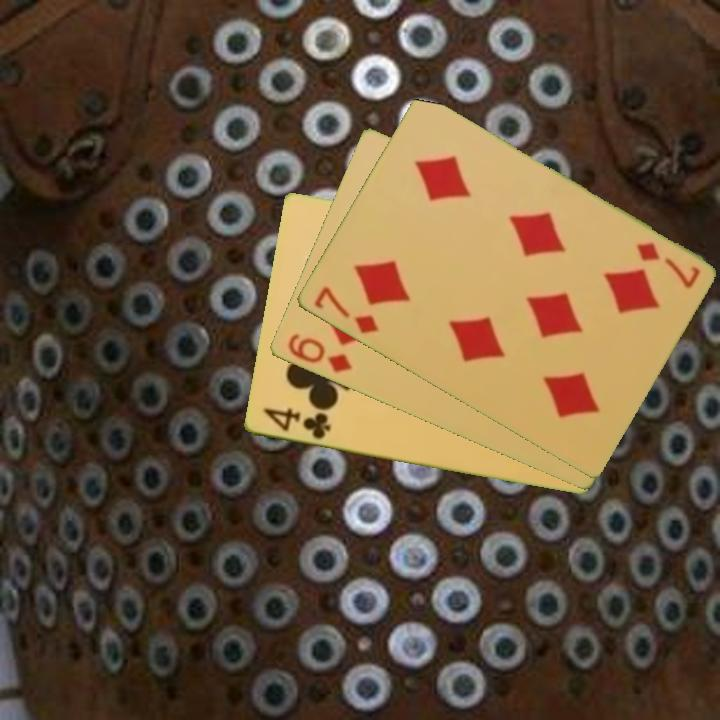4c: (259, 405, 333, 443)
6d: (284, 330, 355, 376)
7d: (309, 283, 381, 337), (632, 239, 703, 291)
